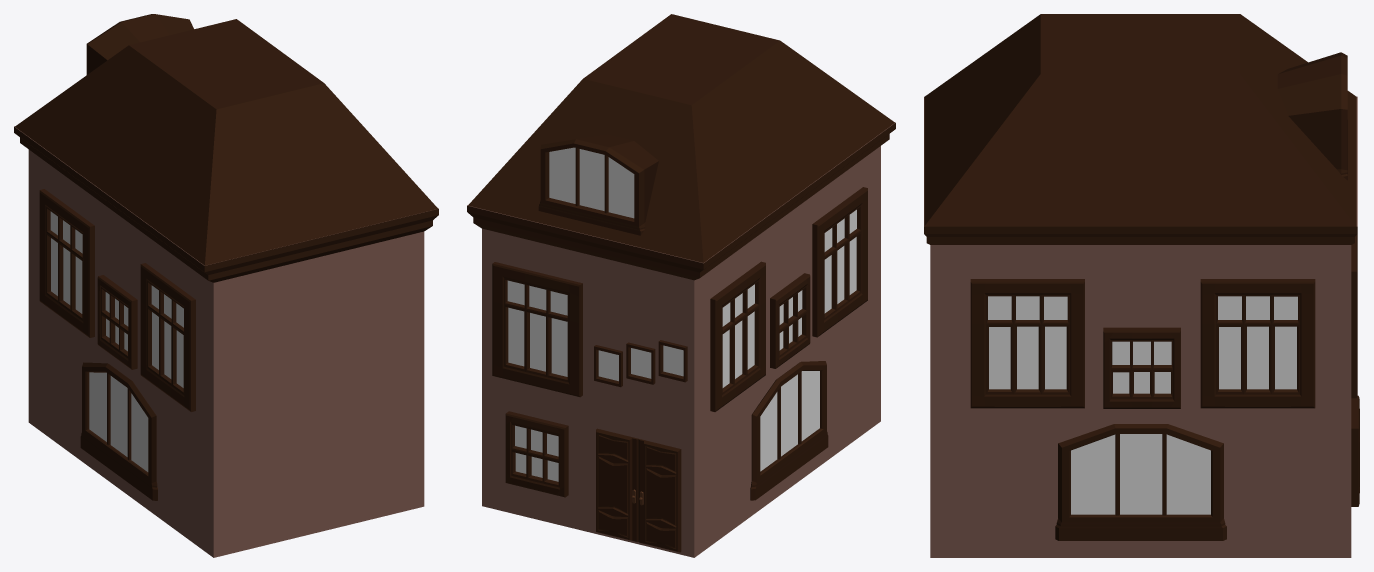
File: MediumbuildingB_model.fbx
3 views of the same model, side by side, from view 1: azimuth 30°, elevation 25°; view 2: azimuth 150°, elevation 25°; view 3: azimuth 270°, elevation 25° (orthographic). The views are drawn at different scales.
Visible parts, largest first — view 1: MediumbuildingB_model; view 2: MediumbuildingB_model; view 3: MediumbuildingB_model.
Part boxes in pixels (left/top/right/bottom): MediumbuildingB_model: left=14, top=14, right=438, bottom=557; MediumbuildingB_model: left=467, top=14, right=895, bottom=557; MediumbuildingB_model: left=924, top=14, right=1359, bottom=557.
Size of the model in its own units: 568 by 804 by 927.
